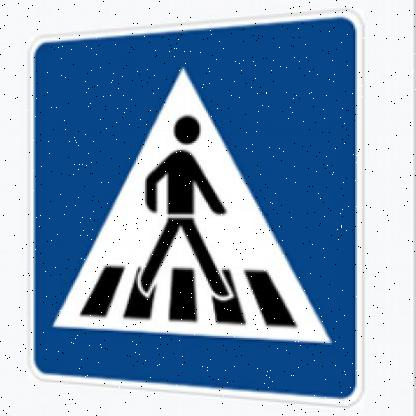Pedestrian Crossing: (30, 15, 368, 409)
